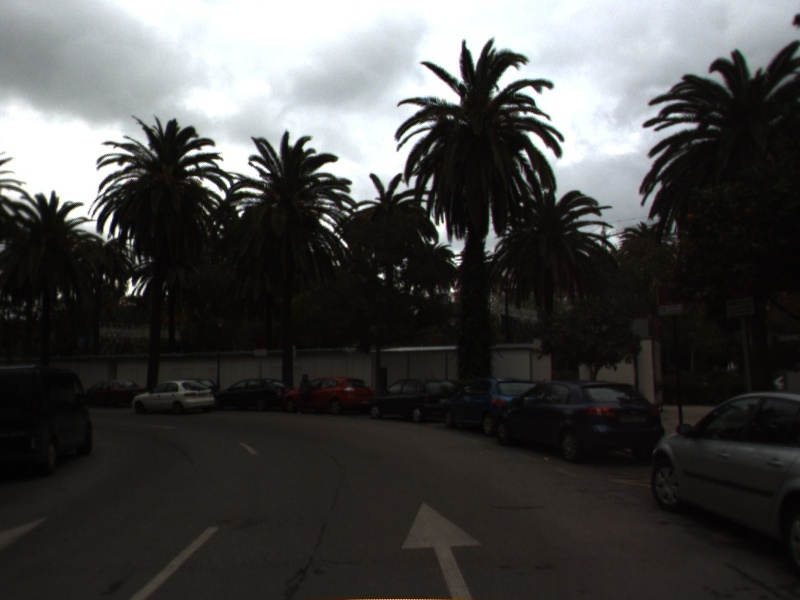STRAIGHT: (398, 498, 487, 600)
